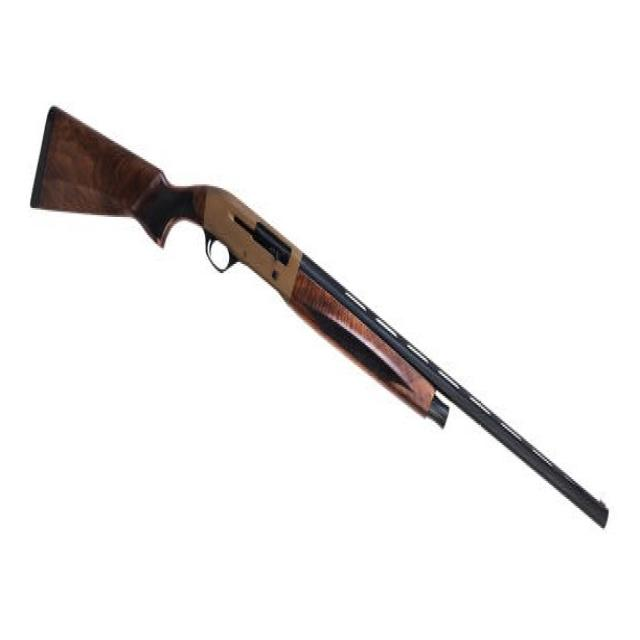rifle: (25, 91, 617, 537)
